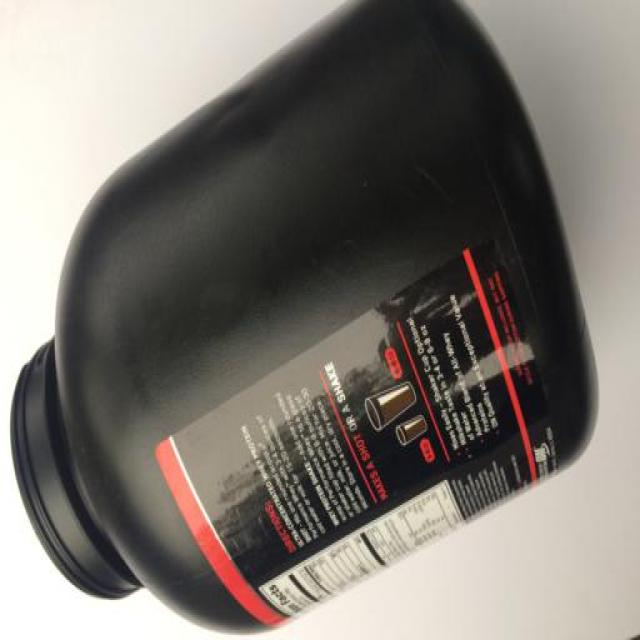plastic_bottle: (7, 8, 630, 631)
